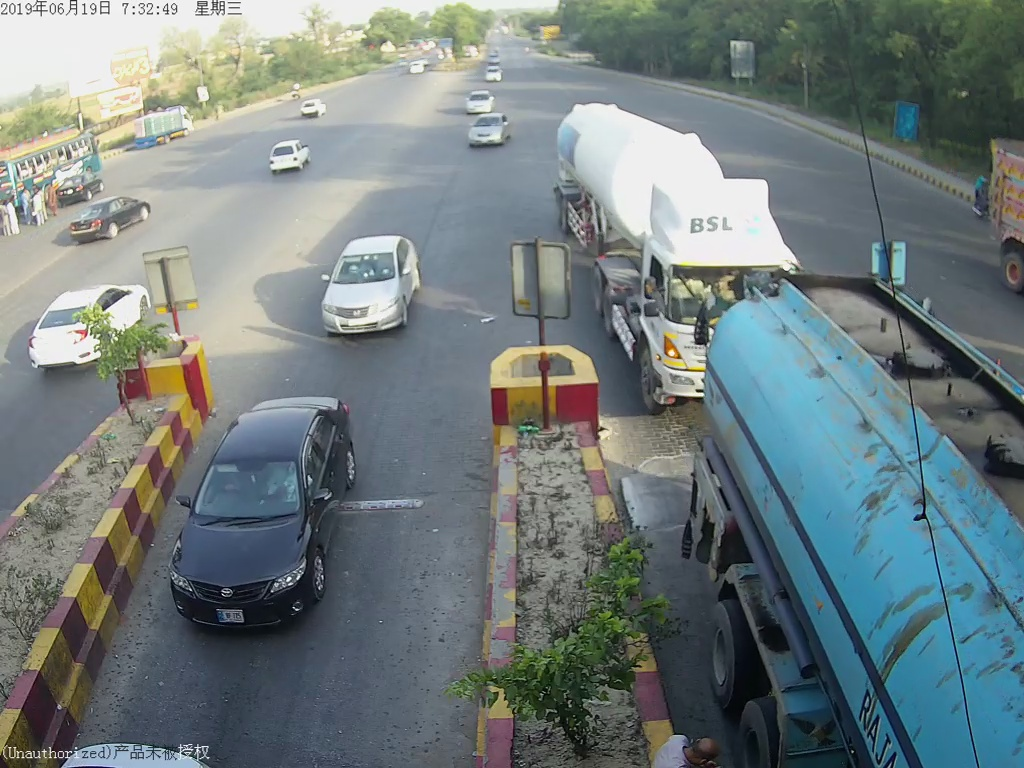Cat-1: (173, 452, 354, 632), (321, 232, 426, 334), (461, 115, 510, 149)
Cat-5: (559, 101, 811, 421)
